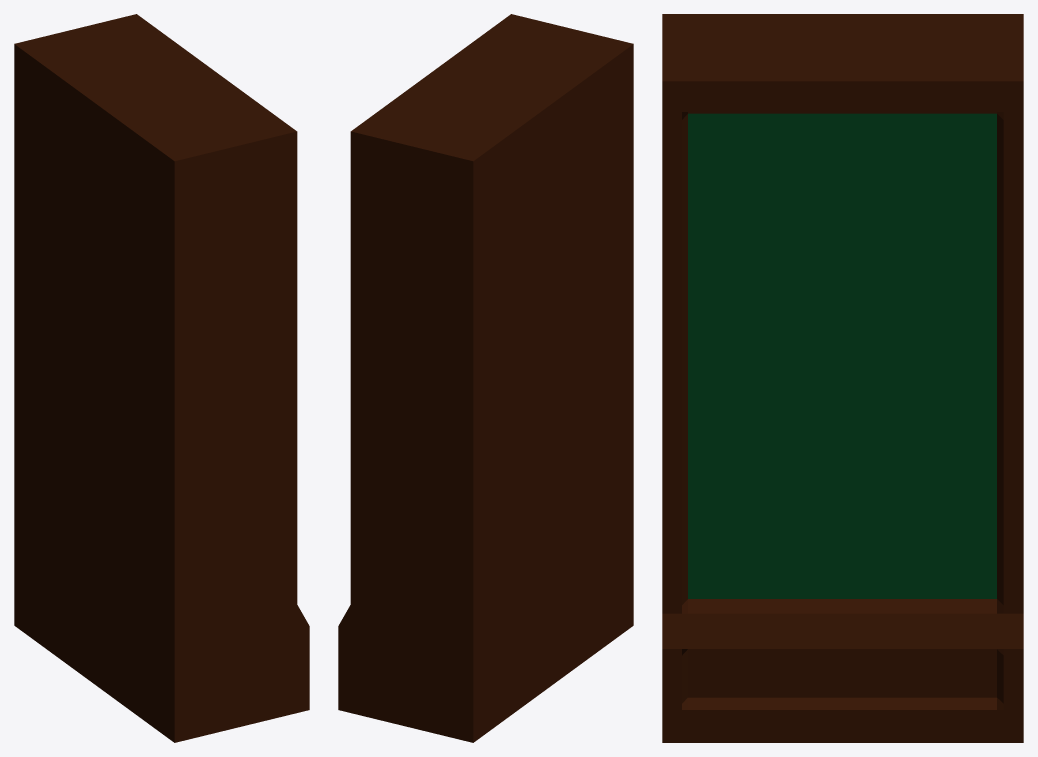
Rendered from wall_segment.glb.
3 views of the same model, side by side, from view 1: azimuth 30°, elevation 25°; view 2: azimuth 150°, elevation 25°; view 3: azimuth 270°, elevation 25° (orthographic). The views are drawn at different scales.
Parts seen in each view (by area): view 1: Cube.001; view 2: Cube.001; view 3: Cube.001.
Boxes of the visible parts, bbox=[...] form: Cube.001: bbox=[14, 14, 309, 742]; Cube.001: bbox=[338, 14, 633, 742]; Cube.001: bbox=[662, 14, 1023, 742].
Bounding box in the file's own units: 0.9728 × 4 × 2.
